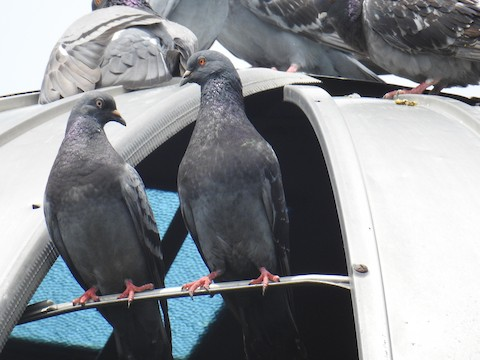pigeon: (36, 85, 175, 345), (176, 48, 298, 301)
